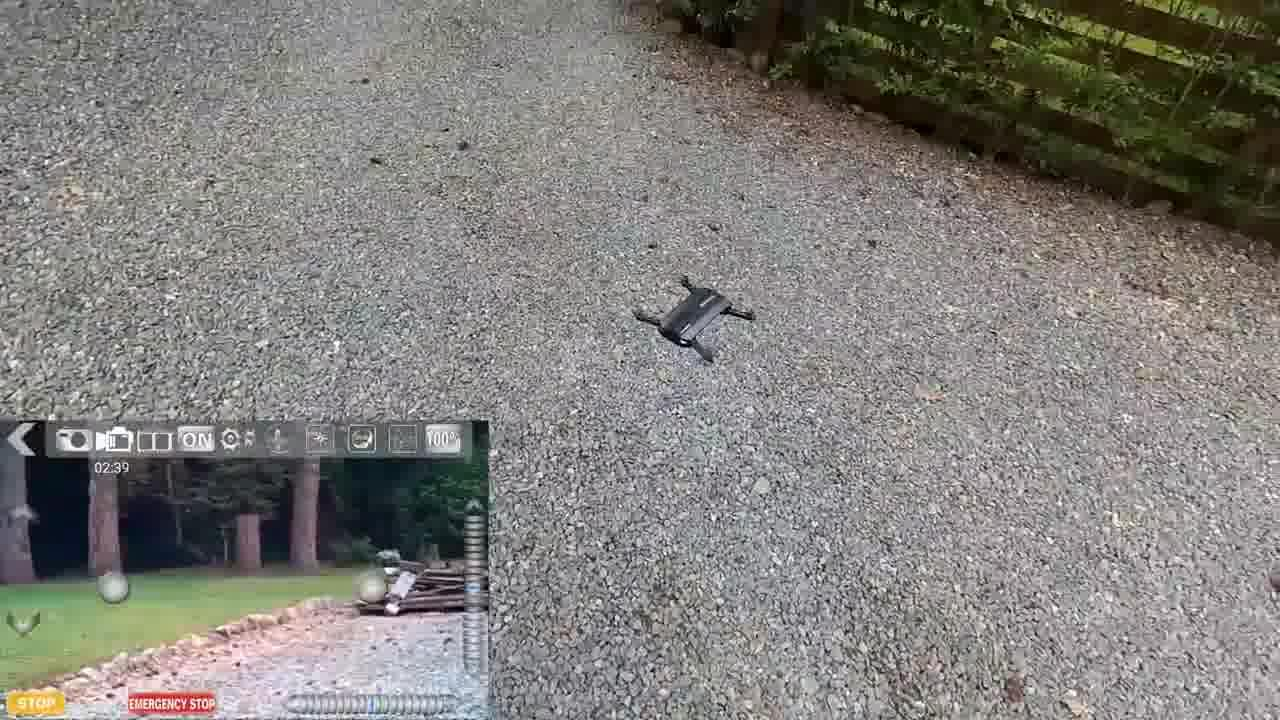drone: (634, 278, 759, 366)
